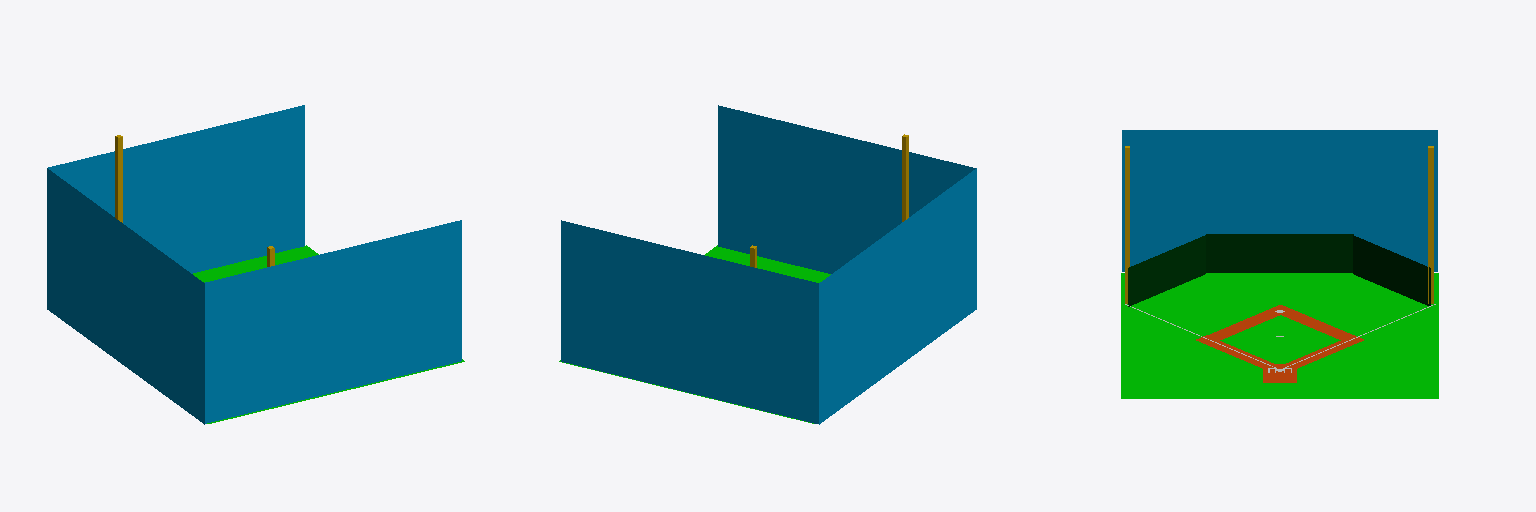
The model's file is baseball_stage.obj.
The picture shows the model from 3 angles: view 1: azimuth 30°, elevation 25°; view 2: azimuth 150°, elevation 25°; view 3: azimuth 270°, elevation 25°; orthographic projection.
Visible parts, largest first — view 1: 平面.006_平面.057, 平面.007_平面.058, 平面.022_平面.059, 平面, 立方体.001; view 2: 平面.007_平面.058, 平面.006_平面.057, 平面.022_平面.059, 平面, 立方体; view 3: 平面.022_平面.059, 平面, 平面.001, 平面.021_平面.022, 平面.004_平面.005, 平面.005_平面.006, 立方体.001, 立方体.
Boxes of the visible parts, x1,y1,x2,y2 form: 平面.006_平面.057: [205, 220, 461, 423]; 平面.007_平面.058: [48, 105, 304, 273]; 平面.022_平面.059: [47, 168, 204, 424]; 平面: [193, 245, 464, 423]; 立方体.001: [115, 135, 122, 222]; 平面.007_平面.058: [561, 220, 818, 423]; 平面.006_平面.057: [718, 105, 975, 273]; 平面.022_平面.059: [819, 168, 976, 424]; 平面: [559, 245, 830, 423]; 立方体: [902, 134, 908, 221]; 平面.022_平面.059: [1122, 130, 1437, 271]; 平面: [1121, 273, 1438, 398]; 平面.001: [1206, 234, 1353, 272]; 平面.021_平面.022: [1196, 305, 1363, 382]; 平面.004_平面.005: [1128, 235, 1205, 306]; 平面.005_平面.006: [1353, 235, 1430, 305]; 立方体.001: [1428, 146, 1433, 303]; 立方体: [1125, 146, 1129, 303].
Bounding box in the file's own units: 63.5 × 36.96 × 67.07.